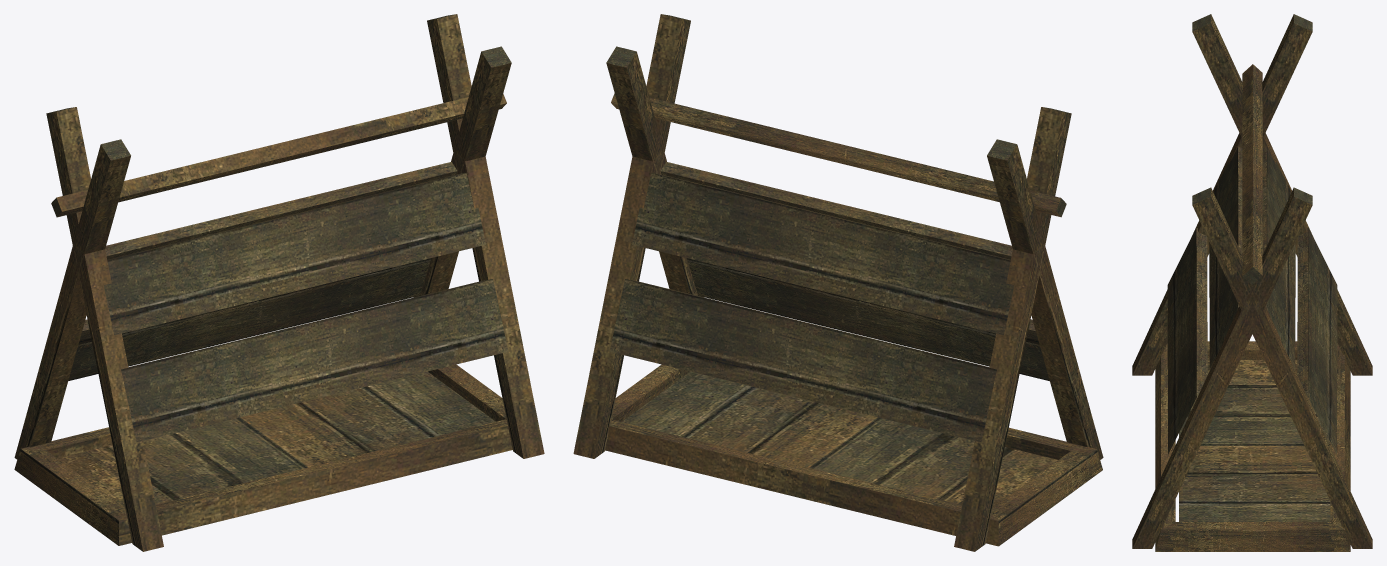
The model's file is table2.glb.
3 views of the same model, side by side, from view 1: azimuth 30°, elevation 25°; view 2: azimuth 150°, elevation 25°; view 3: azimuth 270°, elevation 25° (orthographic). The views are drawn at different scales.
Visible parts, largest first — view 1: Box03; view 2: Box03; view 3: Box03.
Part boxes in pixels (left/top/right/bottom): Box03: left=14, top=14, right=544, bottom=551; Box03: left=573, top=14, right=1103, bottom=551; Box03: left=1132, top=14, right=1372, bottom=551.
Size of the model in its own units: 1.84 by 1.49 by 0.9198.
Materials: 1 (1 with a texture image).
